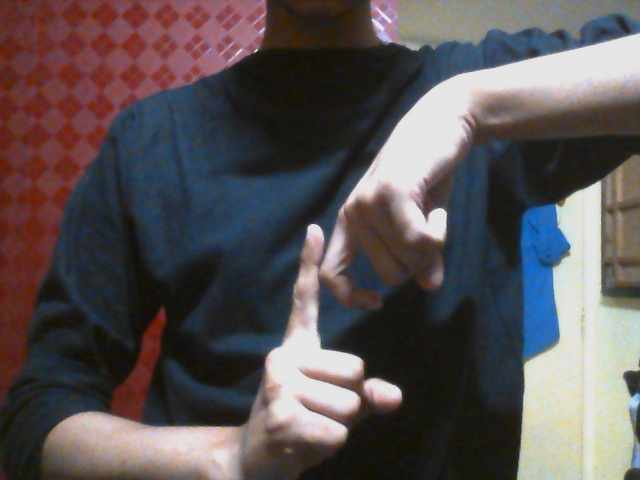K: (250, 165, 448, 466)
